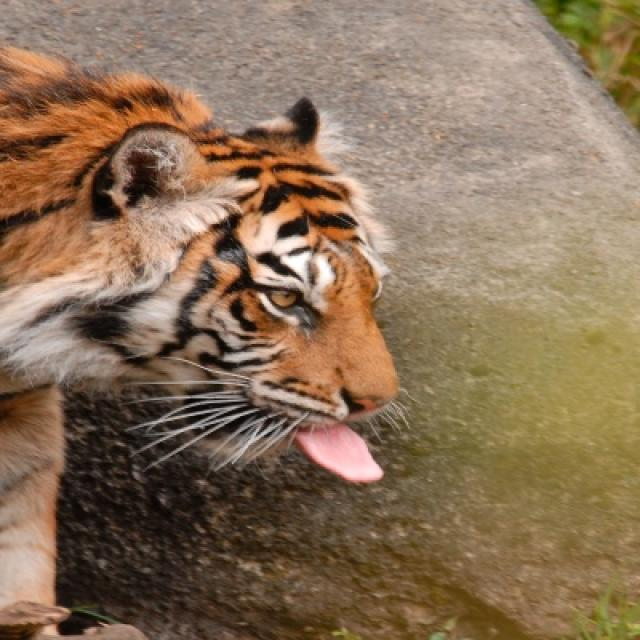Tiger: (0, 48, 397, 608)
